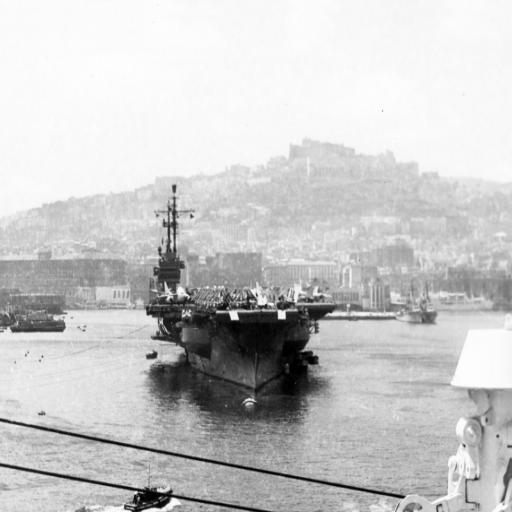Portanaves: (146, 155, 340, 415)
